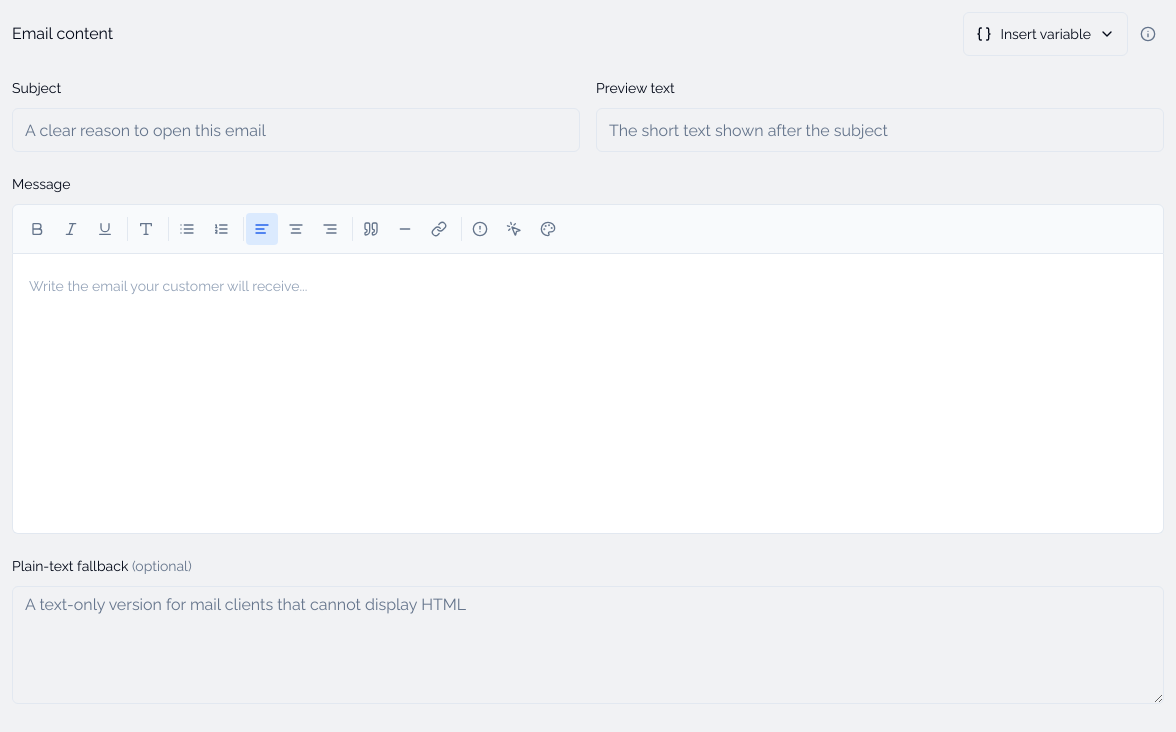
Scenario: EmailContentEditor › keeps recipient variables in one contextual insertion menu
Expected: the heading "Email content" is shown, [12,22,113,46]
Click the button "Insert variable": (1046, 34) [963,12,1128,56]
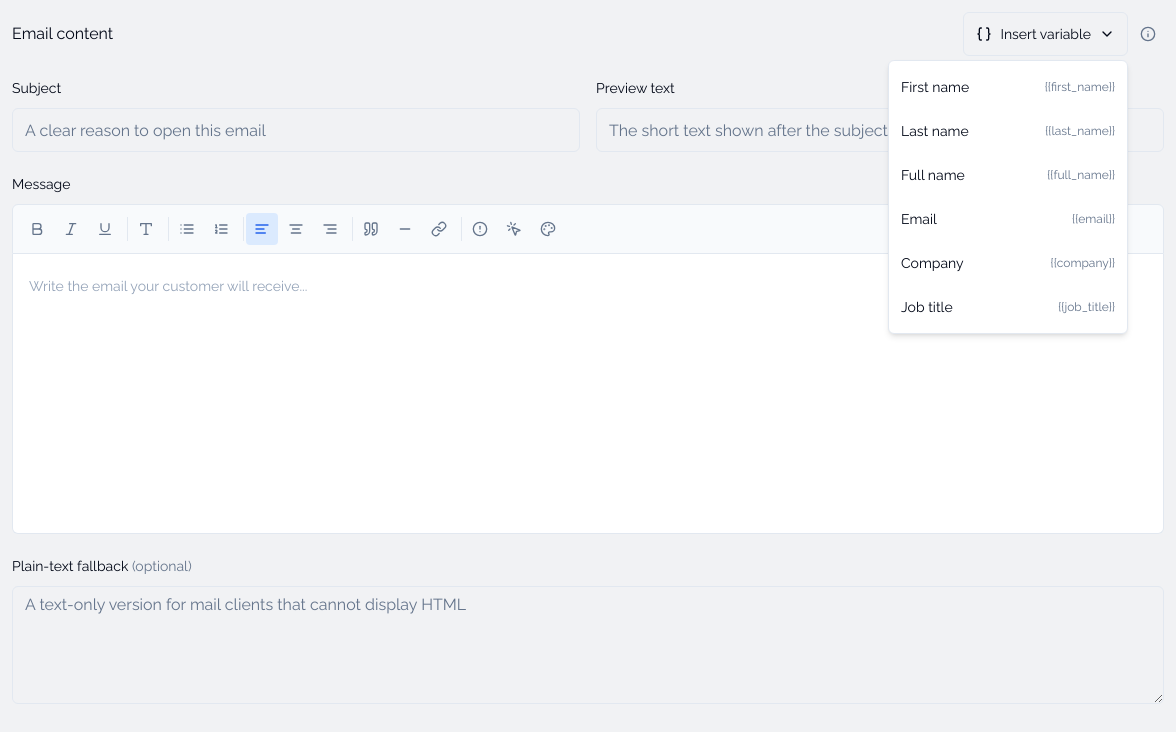
Click the menu item "First name {{first_name}}": (935, 87) [901,79,1115,95]
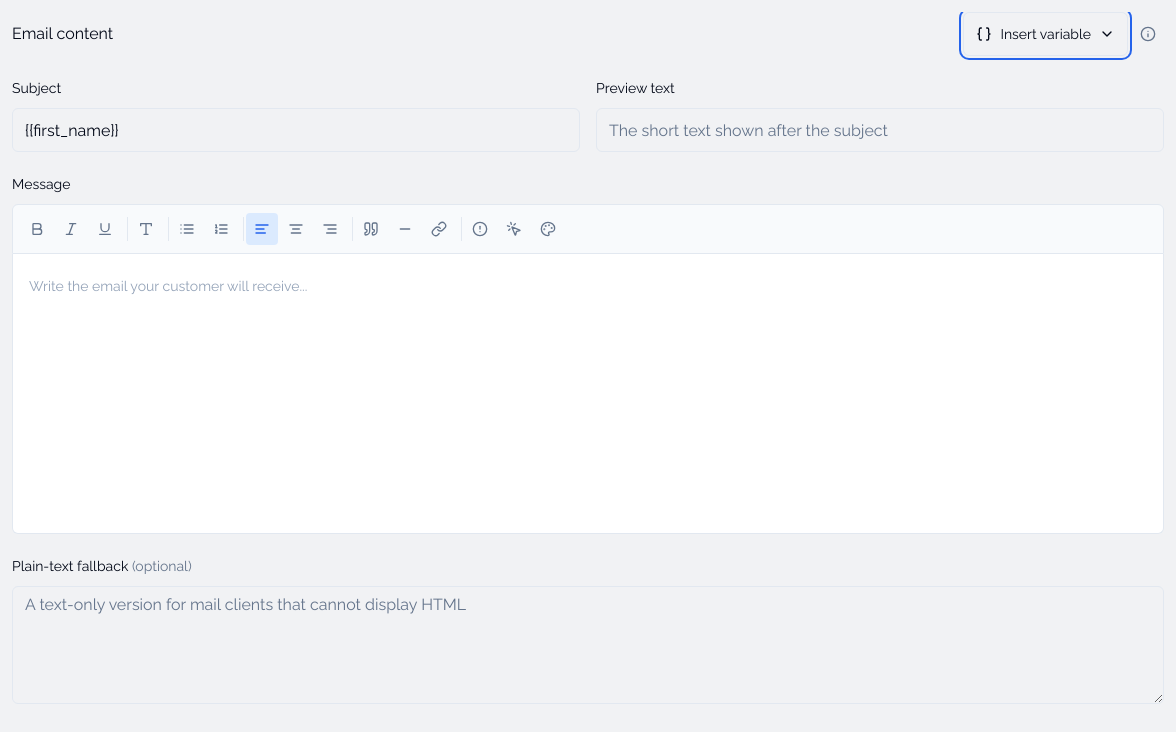
Now the field labelled "Subject" holds "{{first_name}}", box [12,108,580,152]
